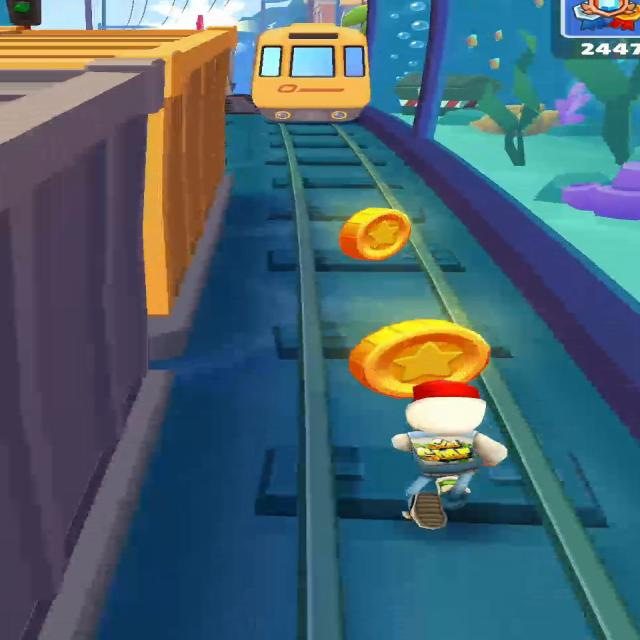train: (0, 58, 163, 640), (0, 26, 236, 317), (252, 23, 370, 124)
